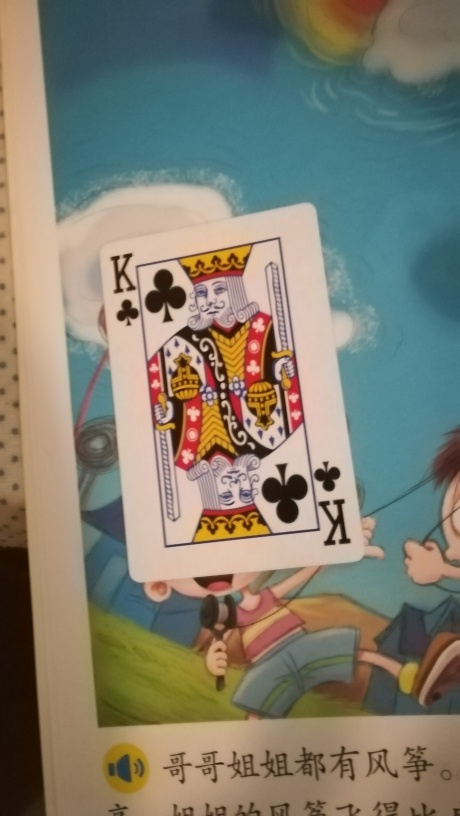mh k: (98, 201, 370, 583)
